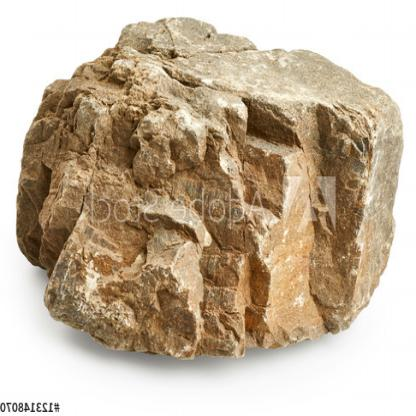Igneous_Basalt: (8, 13, 406, 366)
